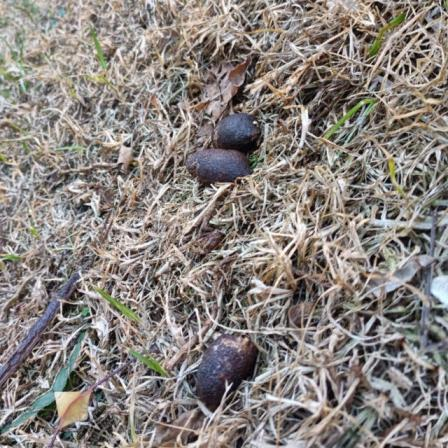dog-poop: (178, 108, 266, 184), (192, 327, 255, 398)
